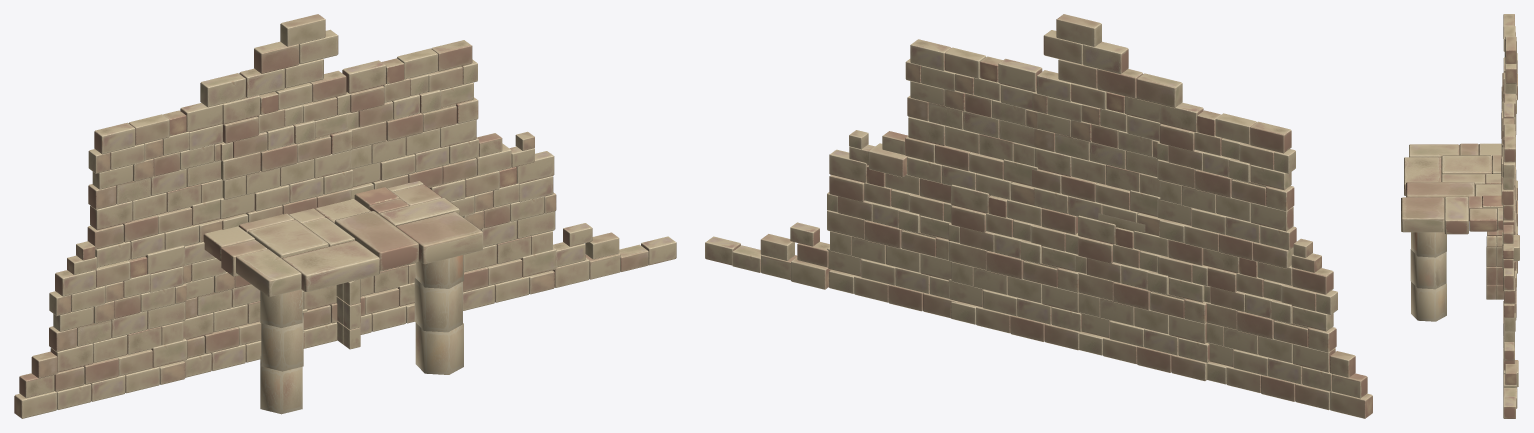
The model's file is dungeon2.fbx.
3 views of the same model, side by side, from view 1: azimuth 30°, elevation 25°; view 2: azimuth 150°, elevation 25°; view 3: azimuth 270°, elevation 25° (orthographic). The views are drawn at different scales.
Parts seen in each view (by area): view 1: dungeon2_LOD0; view 2: dungeon2_LOD0; view 3: dungeon2_LOD0.
Boxes of the visible parts, <box> form: dungeon2_LOD0: <box>14,14,676,418</box>; dungeon2_LOD0: <box>705,14,1372,418</box>; dungeon2_LOD0: <box>1401,14,1519,418</box>.
Bounding box in the file's own units: 22.45 × 10.62 × 4.73.
